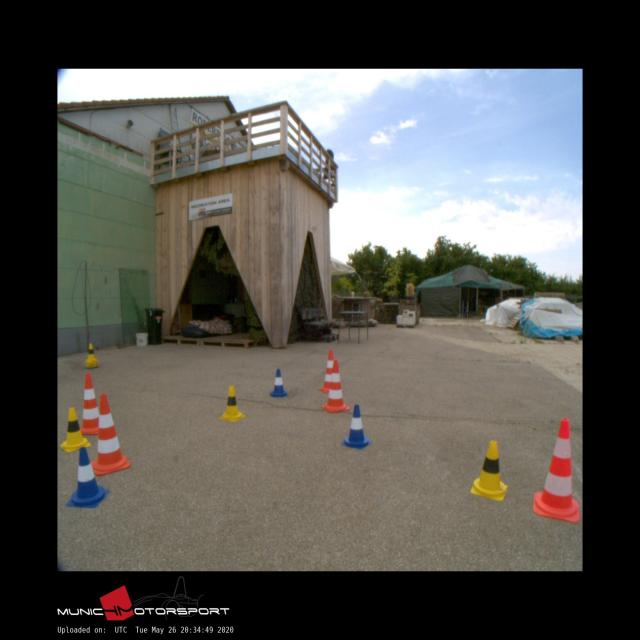blue_cone: (66, 448, 109, 508), (341, 404, 371, 448), (269, 369, 286, 397)
large_orange_cone: (533, 418, 579, 520), (91, 394, 130, 475), (321, 359, 349, 412), (79, 374, 102, 434), (319, 349, 337, 392)
yellow_cone: (469, 440, 507, 500), (60, 407, 91, 451), (219, 384, 245, 421), (84, 343, 97, 361)
